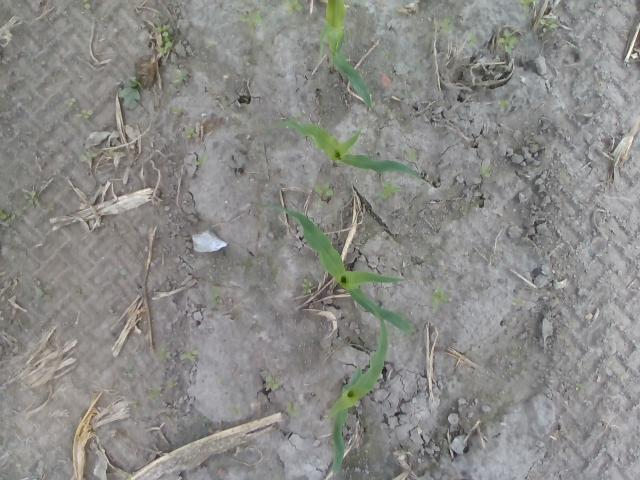Maize: (258, 203, 416, 334), (325, 291, 390, 474), (268, 118, 426, 184), (320, 1, 374, 109)
Weeds: (24, 191, 54, 212), (239, 11, 265, 35), (120, 78, 140, 108), (157, 24, 174, 56), (429, 286, 451, 310), (500, 30, 520, 55), (380, 180, 404, 199), (34, 282, 54, 302), (539, 15, 558, 34), (434, 18, 454, 33), (314, 184, 334, 198), (178, 351, 199, 364), (264, 377, 281, 393), (284, 0, 304, 13), (404, 148, 420, 164), (300, 279, 314, 296), (157, 347, 171, 364), (76, 107, 93, 120), (147, 388, 161, 402), (79, 152, 95, 164), (171, 105, 187, 117), (173, 69, 187, 82), (522, 0, 536, 13), (499, 99, 512, 112), (478, 162, 490, 176), (125, 362, 134, 378), (286, 407, 300, 417), (193, 156, 207, 166), (183, 125, 193, 139), (229, 405, 241, 416), (466, 32, 478, 42), (212, 291, 220, 306), (0, 210, 9, 222), (575, 384, 585, 394), (122, 471, 132, 480), (66, 98, 76, 107), (512, 298, 522, 306), (120, 270, 130, 278), (82, 1, 93, 8)
